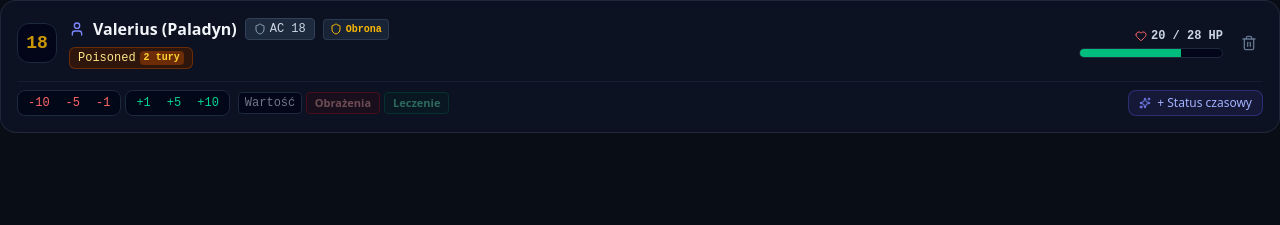
Test: CombatantCard Component › renders defenses badge and opens popover when combatant has resistances (Chunk 11.2)
Click the button "Obrona". click: (356, 29)
box: [323,18,389,40]
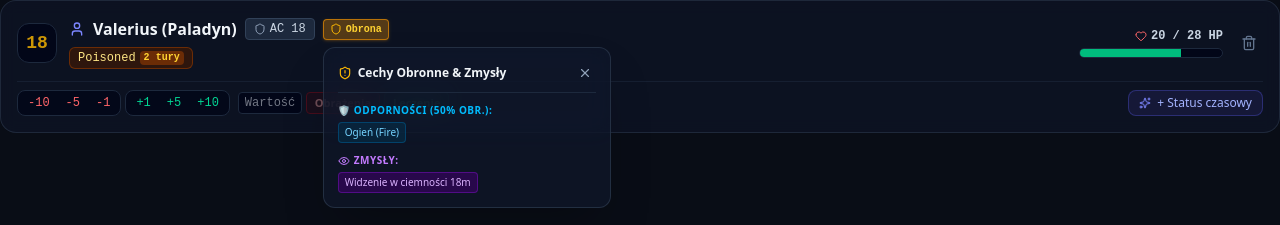
Now the text "Ogień (Fire)" is shown, box [338,122,406,143]
Now the text "Widzenie w ciemności 18m" is shown, box [338,172,478,193]
